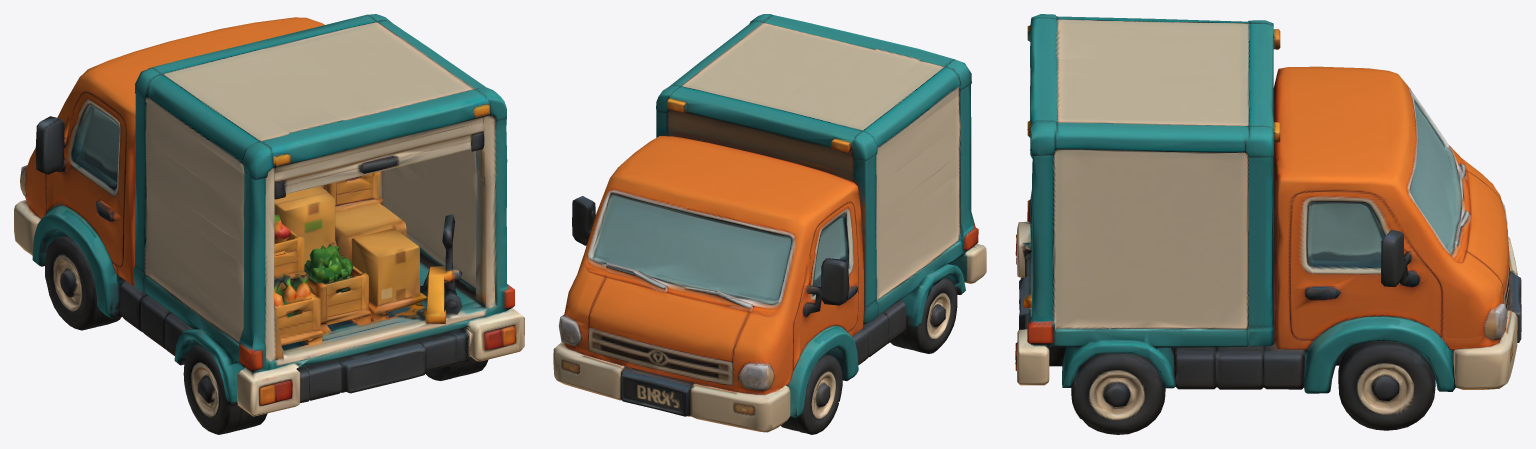
Rendered from DeliveryTruck.fbx.
3 views of the same model, side by side, from view 1: azimuth 30°, elevation 25°; view 2: azimuth 150°, elevation 25°; view 3: azimuth 270°, elevation 25° (orthographic). The views are drawn at different scales.
Parts seen in each view (by area): view 1: tripo_node_8627f28e-73f5-409a-9128-ca97534084ec; view 2: tripo_node_8627f28e-73f5-409a-9128-ca97534084ec; view 3: tripo_node_8627f28e-73f5-409a-9128-ca97534084ec.
Boxes of the visible parts, box(x1,y1,x2,y2) form: tripo_node_8627f28e-73f5-409a-9128-ca97534084ec: box(14, 14, 524, 434); tripo_node_8627f28e-73f5-409a-9128-ca97534084ec: box(553, 14, 986, 434); tripo_node_8627f28e-73f5-409a-9128-ca97534084ec: box(1015, 14, 1521, 434).
Size of the model in its own units: 70.44 by 64.34 by 97.
Materials: 1 (1 with a texture image).
